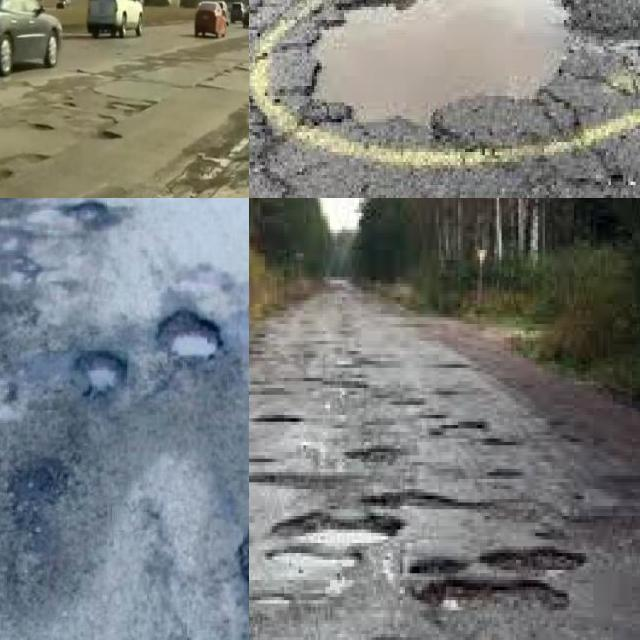Pothole: (258, 489, 588, 614), (309, 0, 569, 135), (157, 309, 223, 367), (8, 458, 68, 503), (0, 249, 45, 305), (468, 422, 526, 462), (74, 351, 124, 397), (60, 200, 114, 226), (0, 153, 50, 181), (105, 98, 150, 111), (5, 382, 17, 402), (101, 131, 122, 139), (32, 124, 54, 130), (64, 102, 76, 106)
